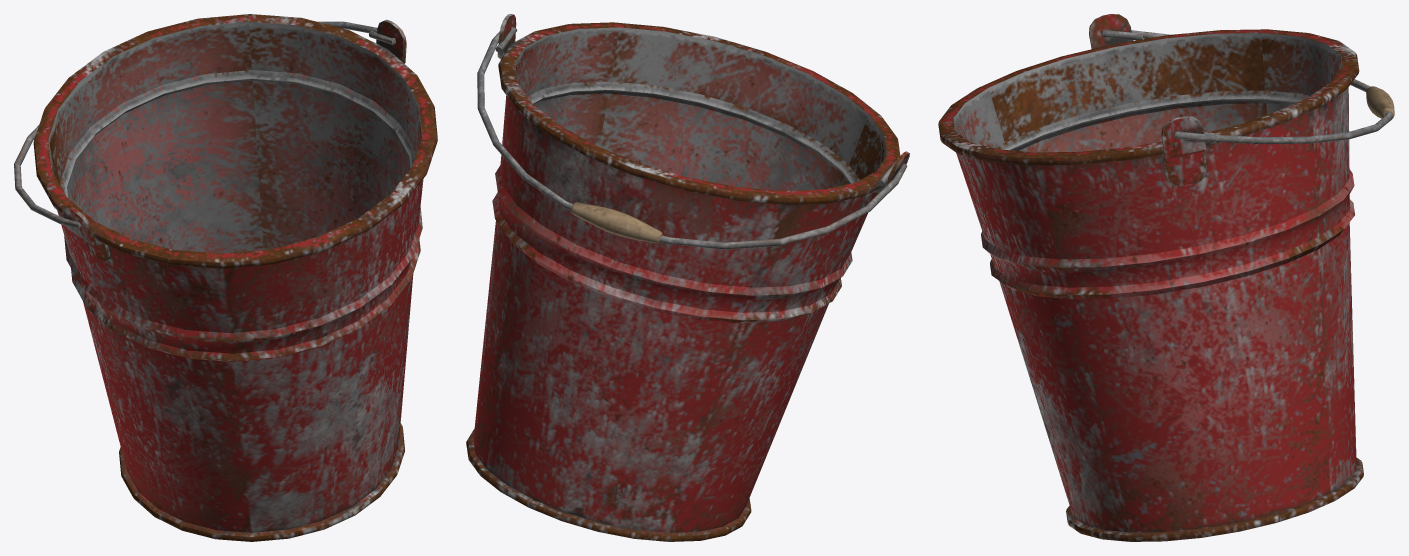
Rendered from old_rusted_bucket_v1.glb.
3 renders of one model, left to right at view 1: azimuth 30°, elevation 25°; view 2: azimuth 150°, elevation 25°; view 3: azimuth 270°, elevation 25°, orthographic. The views are drawn at different scales.
Visible parts, largest first — view 1: bucket_low; view 2: bucket_low; view 3: bucket_low.
Boxes of the visible parts, x1,y1,x2,y2 form: bucket_low: (14,14,437,541); bucket_low: (466,14,909,541); bucket_low: (938,14,1394,541).
Bounding box in the file's own units: 367 × 426 × 375.
Materials: 4 (4 with a texture image).
